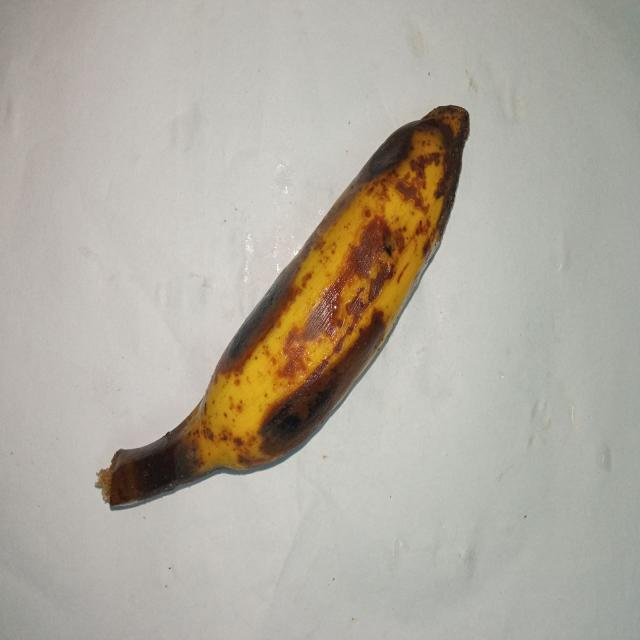rotten_banana: (111, 103, 469, 509)
